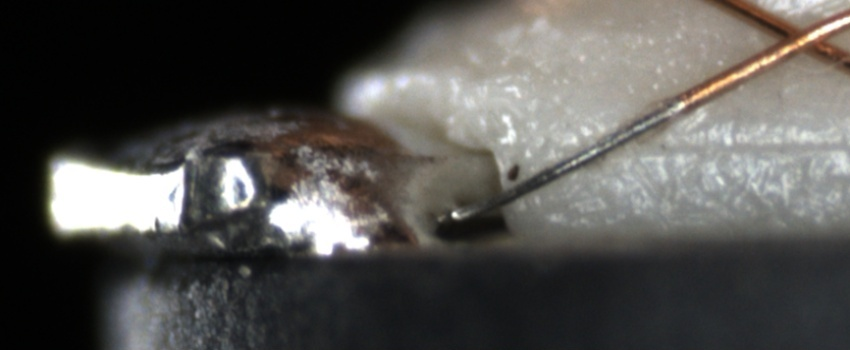CL: (753, 6, 843, 66)
DL: (609, 116, 850, 180)
TS: (440, 92, 687, 226)
TTCW: (445, 74, 725, 230)
